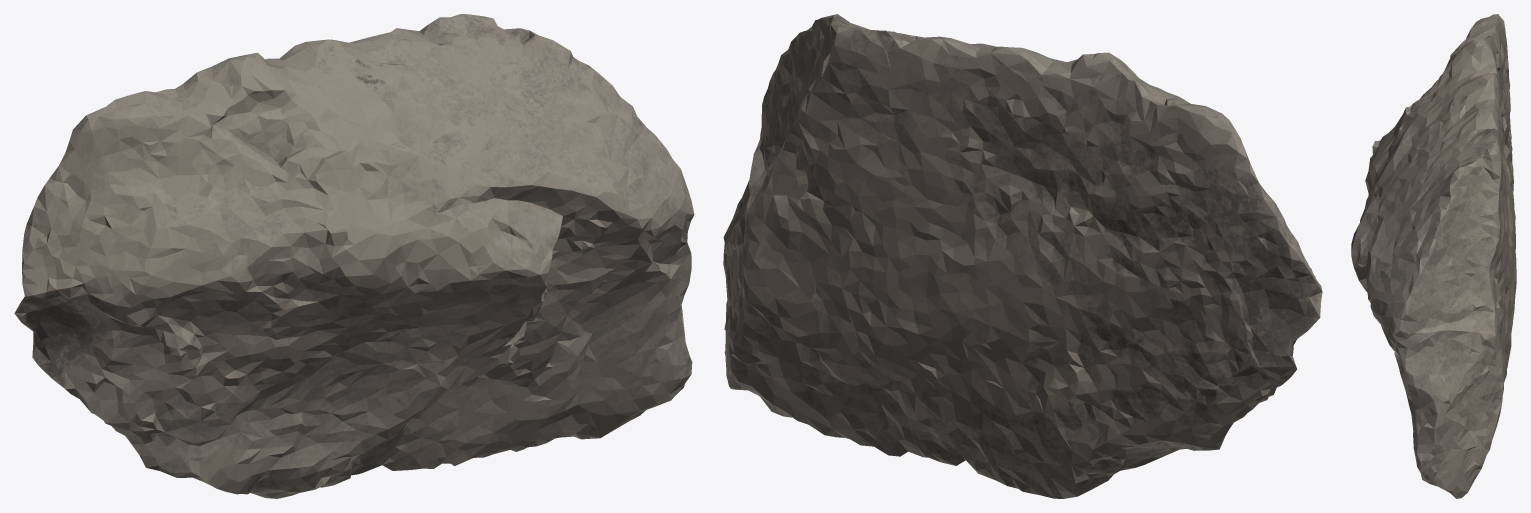
The model's file is moon_rock_04_1k.obj.
3 views of the same model, side by side, from view 1: azimuth 30°, elevation 25°; view 2: azimuth 150°, elevation 25°; view 3: azimuth 270°, elevation 25° (orthographic). The views are drawn at different scales.
Visible parts, largest first — view 1: moon_rock_04_LOD0_moon_rock_04; view 2: moon_rock_04_LOD0_moon_rock_04; view 3: moon_rock_04_LOD0_moon_rock_04.
Boxes of the visible parts, x1,y1,x2,y2 form: moon_rock_04_LOD0_moon_rock_04: (14, 14, 694, 498); moon_rock_04_LOD0_moon_rock_04: (723, 14, 1322, 498); moon_rock_04_LOD0_moon_rock_04: (1351, 14, 1516, 498).
Size of the model in its own units: 0.1738 by 0.1198 by 0.0538.
Materials: 1 (1 with a texture image).
